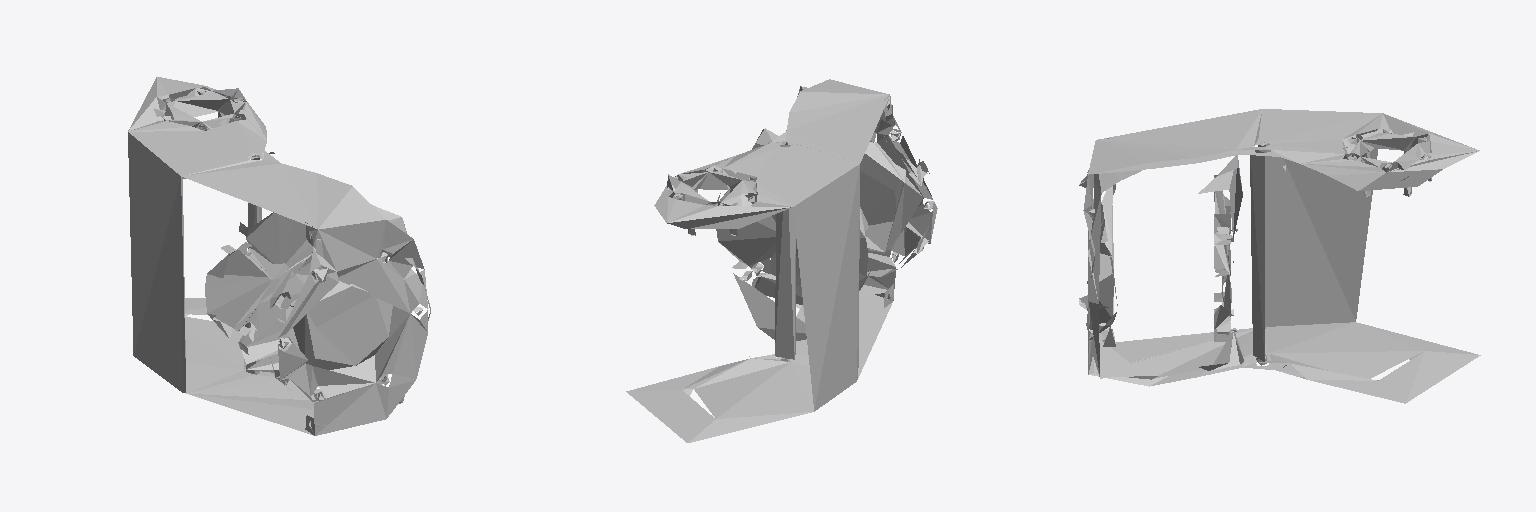
The picture shows the model from 3 angles: view 1: azimuth 30°, elevation 25°; view 2: azimuth 150°, elevation 25°; view 3: azimuth 270°, elevation 25°; orthographic projection.
Visible parts, largest first — view 1: link4_1; view 2: link4_1; view 3: link4_1.
Boxes of the visible parts, x1,y1,x2,y2 form: link4_1: [128, 77, 430, 435]; link4_1: [626, 79, 937, 442]; link4_1: [1079, 109, 1480, 403].
Bounding box in the file's own units: 62.92 × 81.7 × 130.